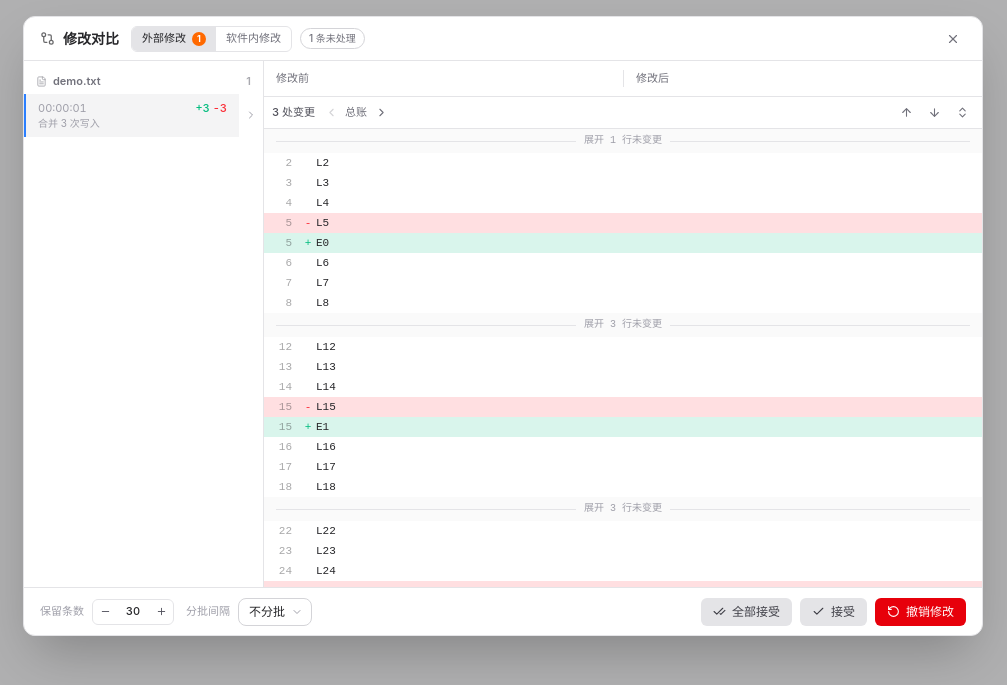
DiffModal：窄壳单列铺法 › 窄壳：过程步在工具条上翻，翻回总账
Click the button named "下一步".
click(381, 112)  # box [369, 100, 393, 124]
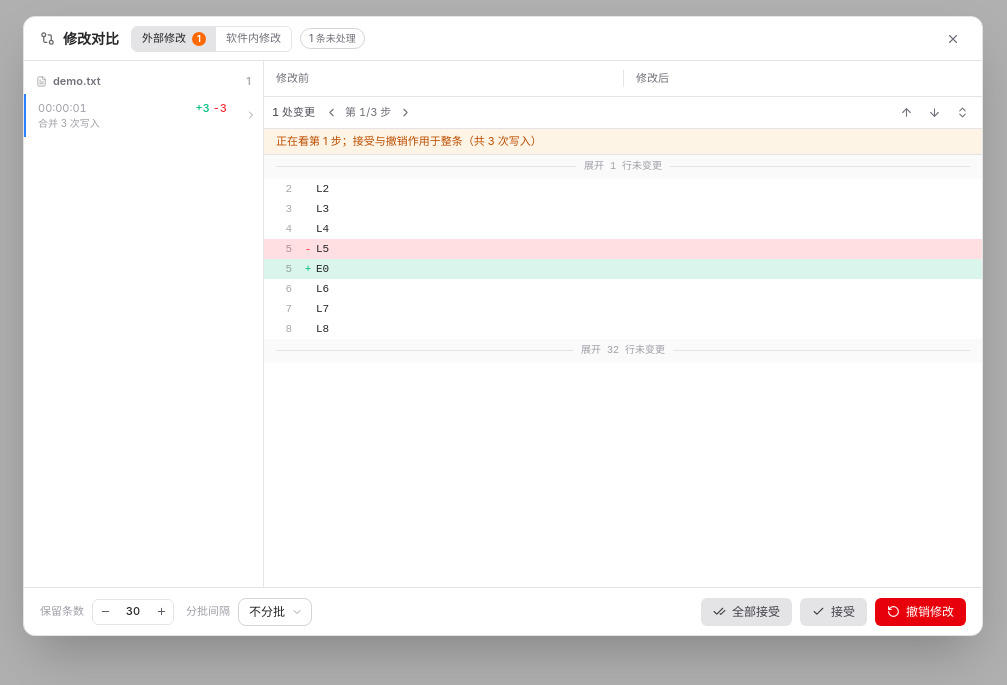
Click the button named "下一步".
click(405, 112)  # box [393, 100, 417, 124]
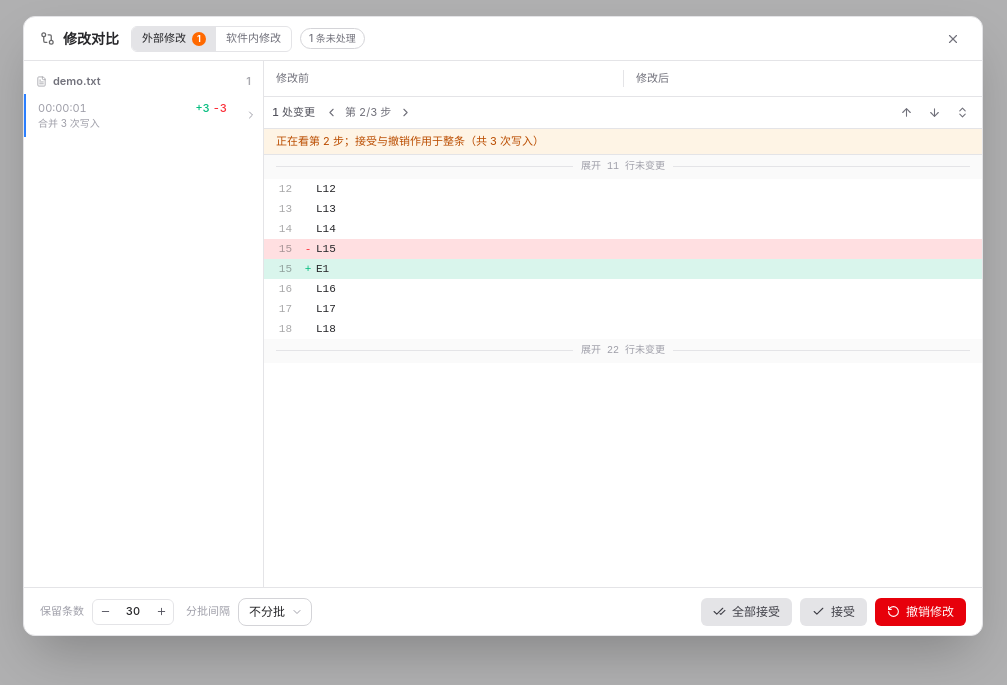
Click the button named "上一步".
click(331, 112)  # box [319, 100, 343, 124]
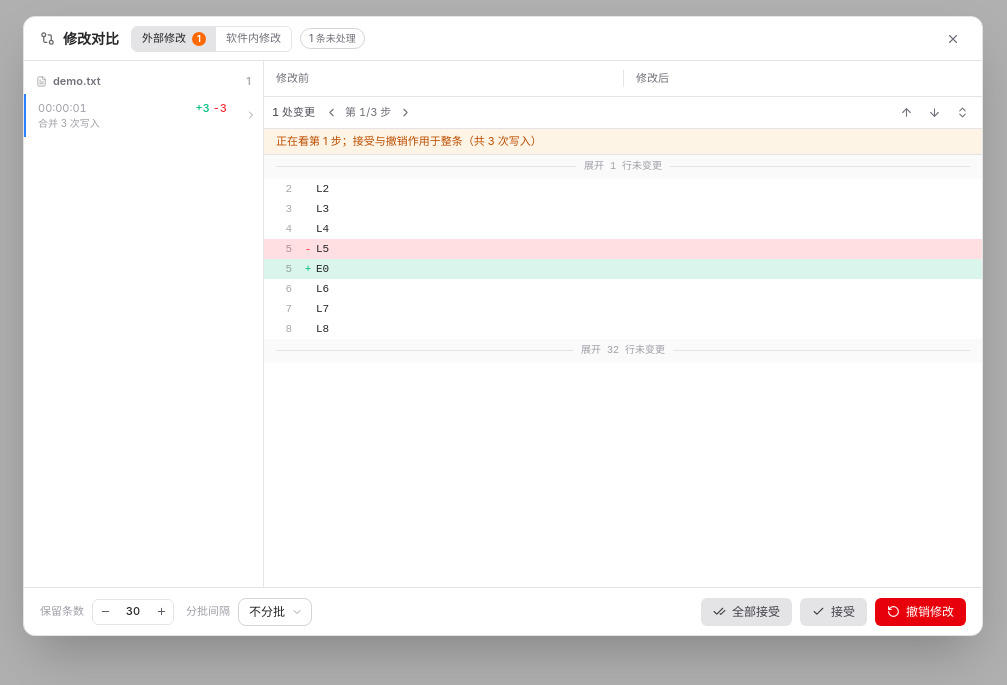
Click the button named "上一步".
click(331, 112)  # box [319, 100, 343, 124]
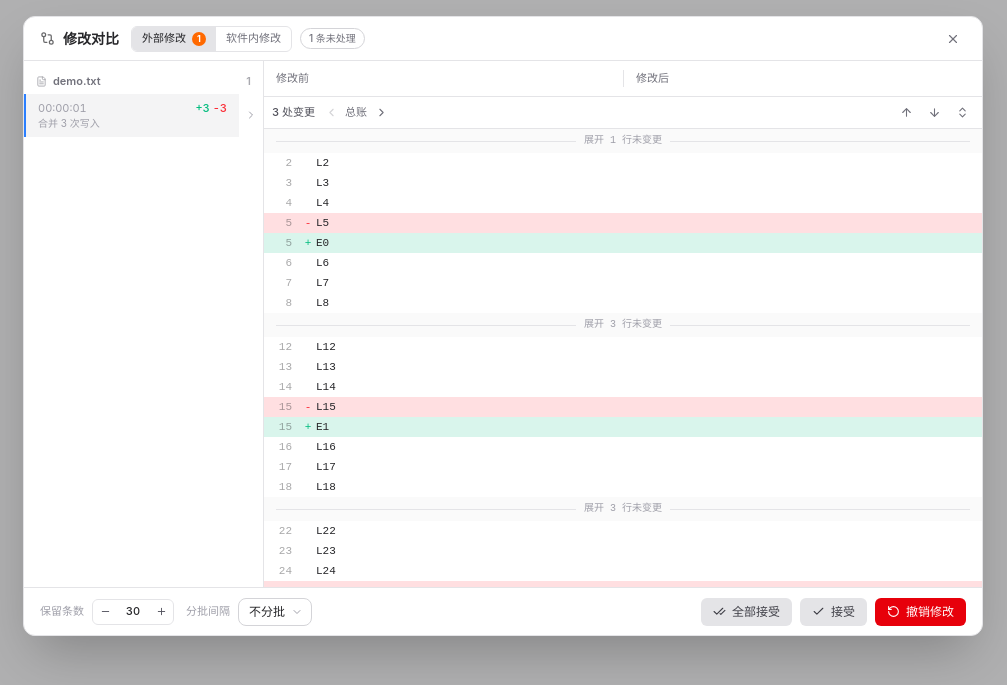
Now the button named "上一步" is disabled, box [319, 100, 343, 124]
